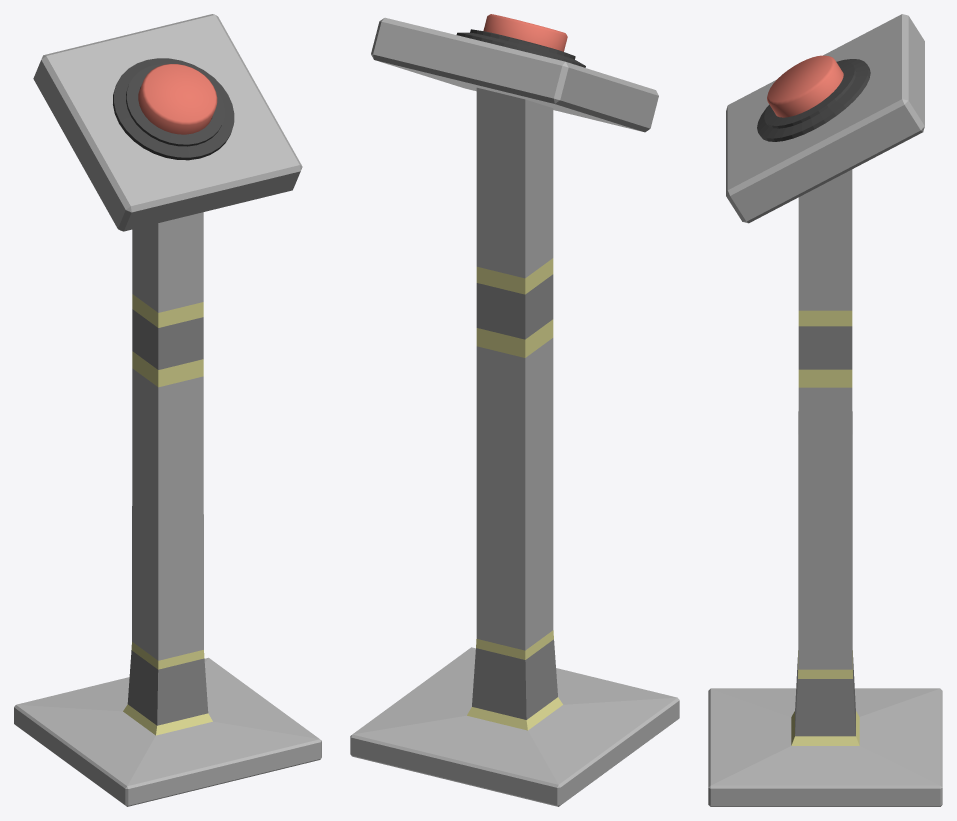
The model's file is ButtonOnStand2.fbx.
The picture shows the model from 3 angles, left to right: view 1: azimuth 30°, elevation 25°; view 2: azimuth 150°, elevation 25°; view 3: azimuth 270°, elevation 25°; orthographic projection. The views are drawn at different scales.
Parts seen in each view (by area): view 1: Square_Base, Button_Square_Base; view 2: Square_Base, Button_Square_Base; view 3: Square_Base, Button_Square_Base.
Boxes of the visible parts, x1,y1,x2,y2 form: Square_Base: (14,14,321,806); Button_Square_Base: (138,64,217,134); Square_Base: (350,17,679,806); Button_Square_Base: (483,14,567,51); Square_Base: (708,14,942,806); Button_Square_Base: (767,55,843,117).
Bounding box in the file's own units: 200 × 661 × 200.
